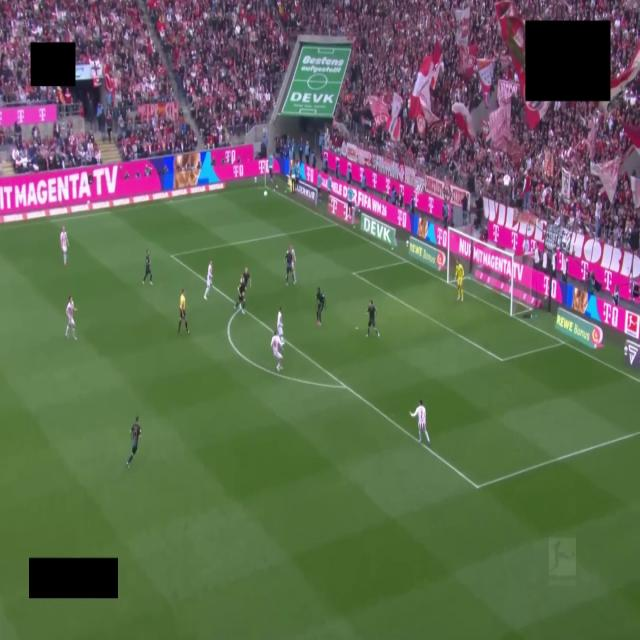ball: (264, 191, 267, 196)
player: (411, 400, 430, 443), (127, 416, 141, 467), (65, 296, 76, 339), (367, 300, 379, 337), (271, 332, 282, 371), (235, 278, 246, 313), (285, 249, 295, 285), (455, 261, 464, 301), (143, 250, 152, 286), (317, 288, 325, 327), (60, 226, 68, 265), (204, 261, 212, 299), (277, 307, 284, 347), (290, 245, 296, 283), (241, 268, 251, 288)
referee: (178, 289, 189, 334)
